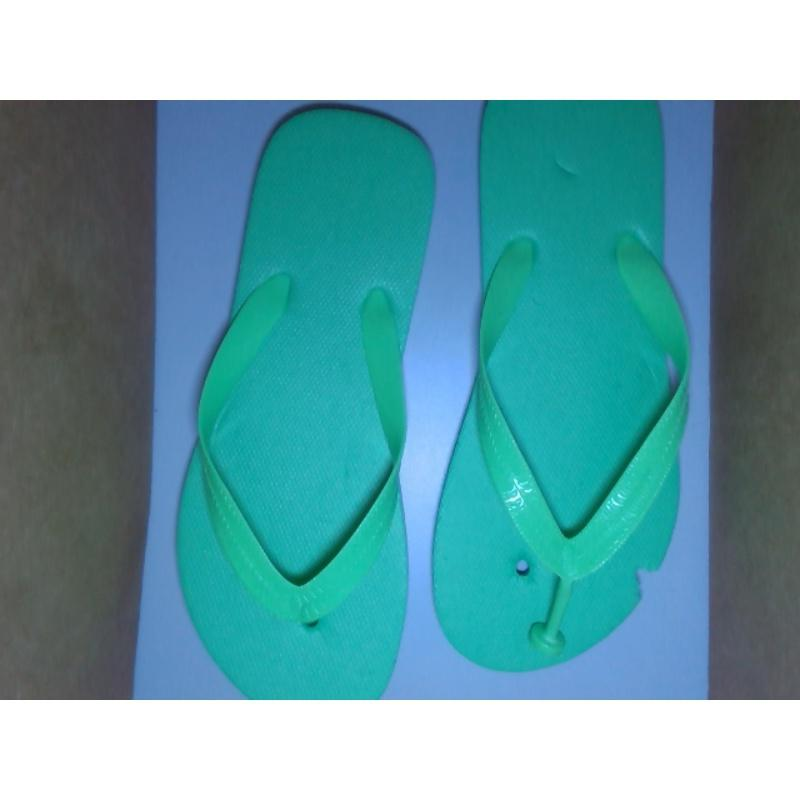chipped: (628, 555, 671, 611)
detached: (522, 602, 572, 660)
